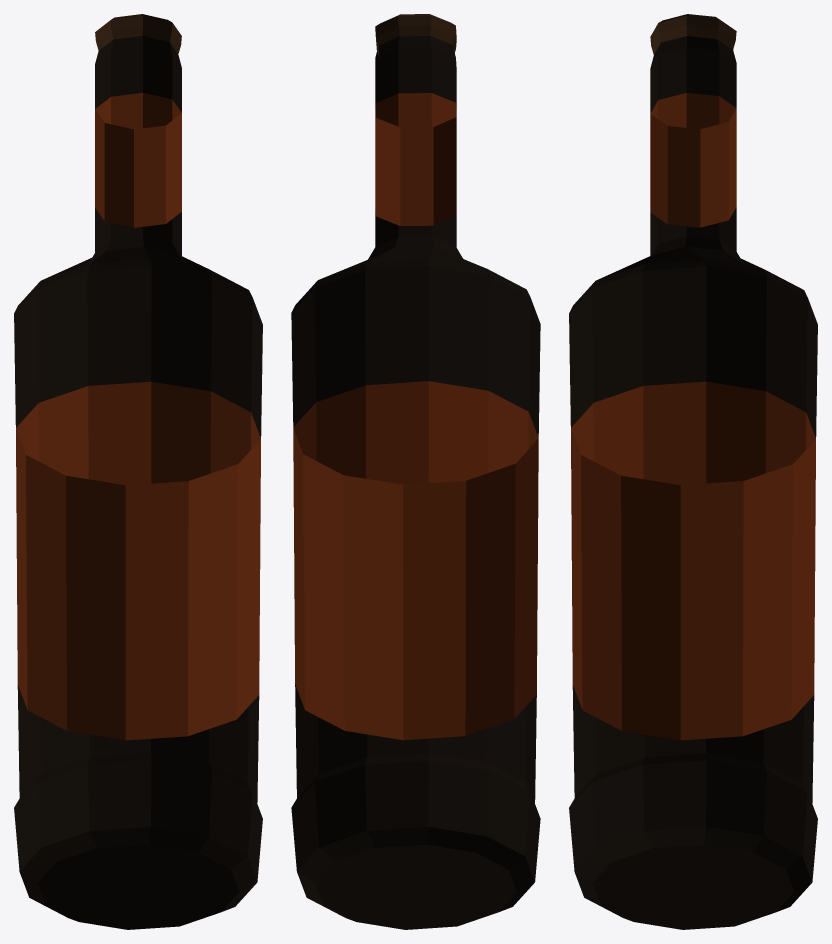
File: Bottle 15.fbx
3 views of the same model, side by side, from view 1: azimuth 30°, elevation 25°; view 2: azimuth 150°, elevation 25°; view 3: azimuth 270°, elevation 25° (orthographic).
Visible parts, largest first — view 1: Node 0; view 2: Node 0; view 3: Node 0.
Part boxes in pixels (bbox=[...]): Node 0: bbox=[14, 14, 262, 929]; Node 0: bbox=[291, 14, 540, 929]; Node 0: bbox=[569, 14, 817, 929].
Size of the model in its own units: 0.0756 by 0.2873 by 0.0756.
